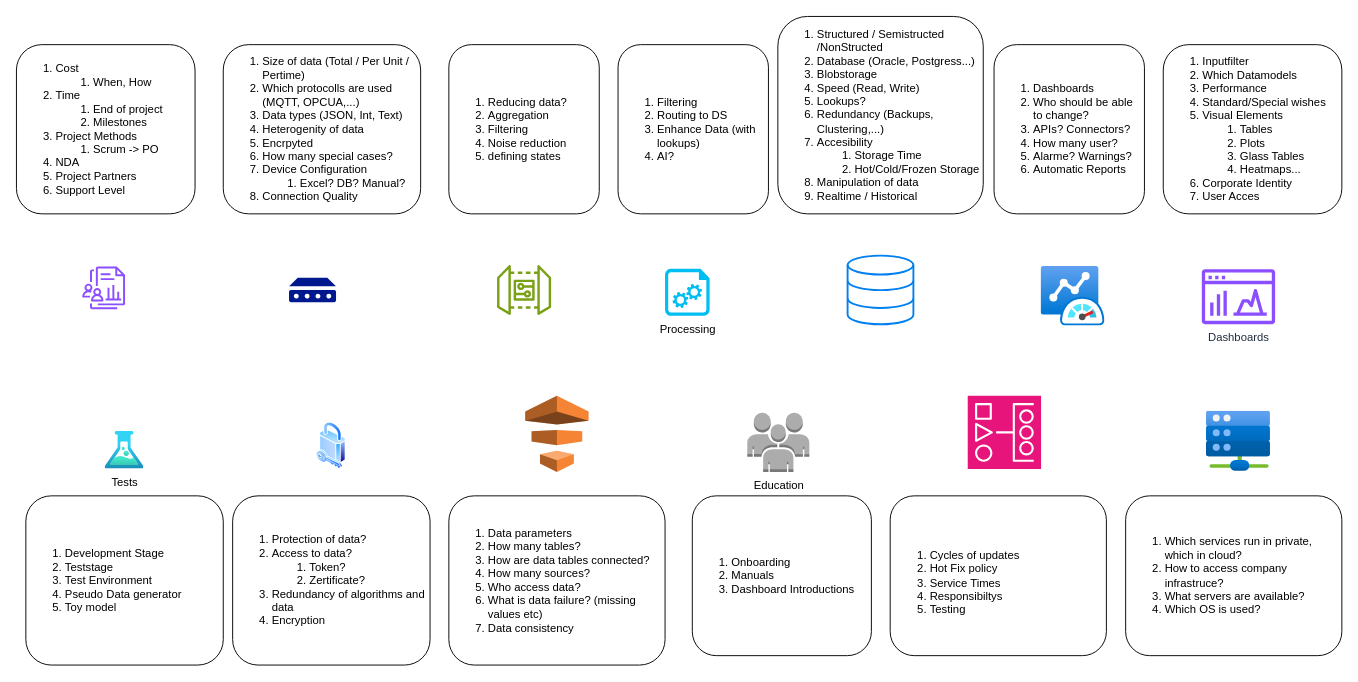
The diagram is 1358 pixels wide and 682 high, and some of its shapes have lost their labels. The shapes that lost their labels are listed below. From the top down, each one's centre as x and y in pixels, then its label:
the point at 103,287: Project in general
the point at 312,289: Input
the point at 524,289: Preprocessing (on edge device)
the point at 880,289: Data Storage
the point at 1072,295: Output
the point at 331,445: Security and Protection
the point at 556,433: Data modells
the point at 1004,432: Updates / Maintenance
the point at 1238,441: Infrastructure
